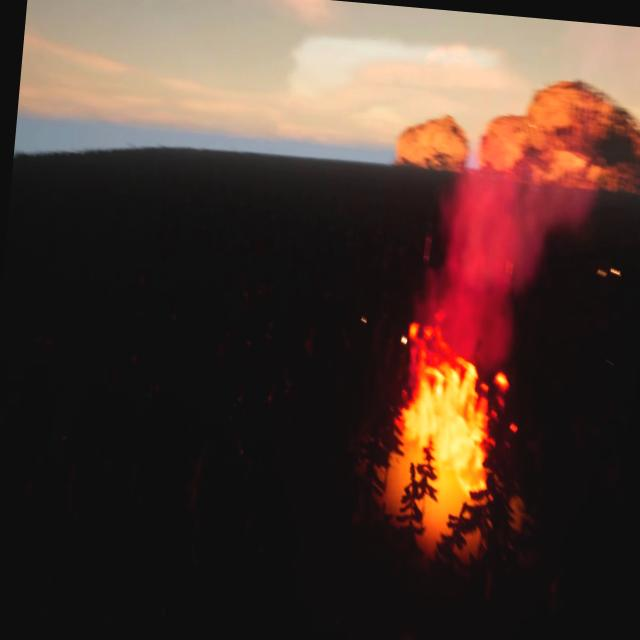fire: (387, 310, 498, 500)
smoke: (421, 116, 605, 358)
